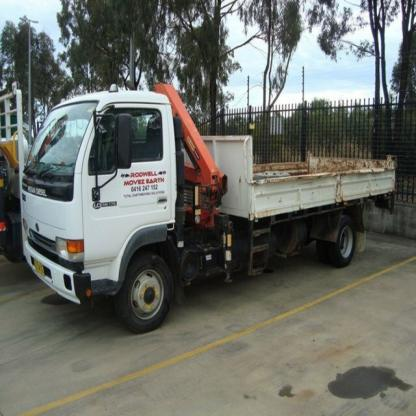dump_truck: (28, 66, 404, 340)
